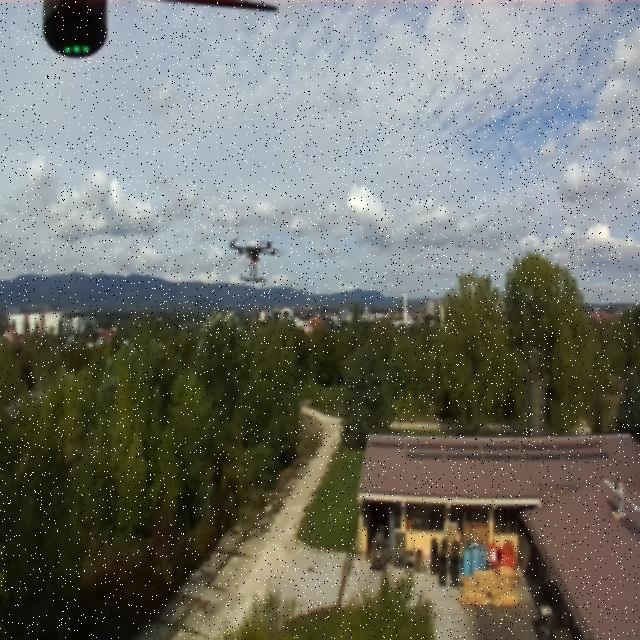UAV: (222, 232, 288, 280)
